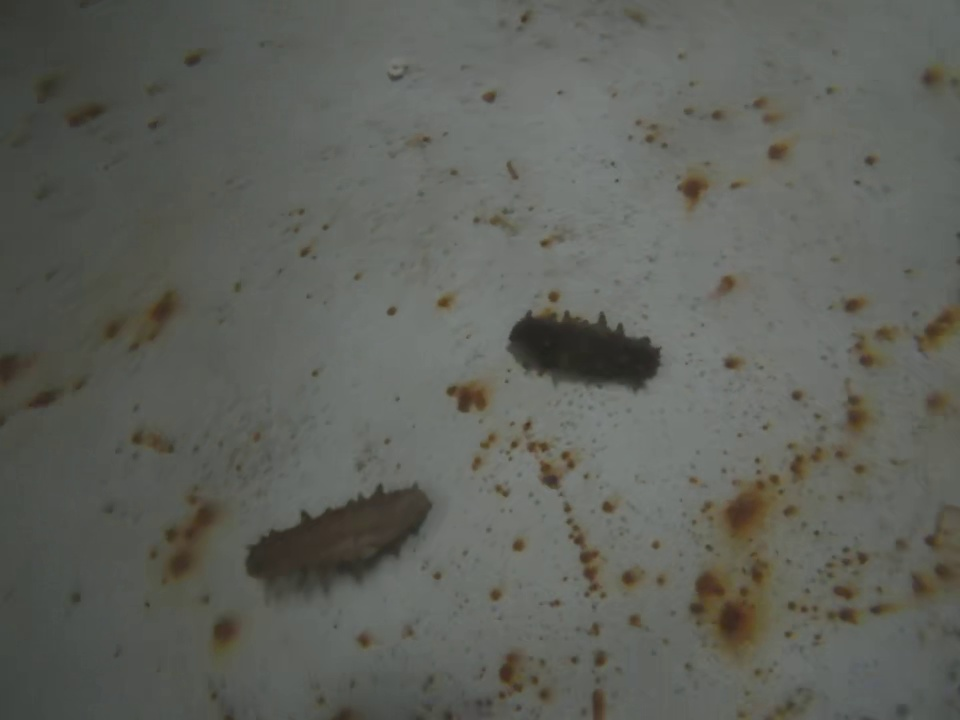seacucumber: (243, 478, 434, 587), (504, 305, 658, 395)
